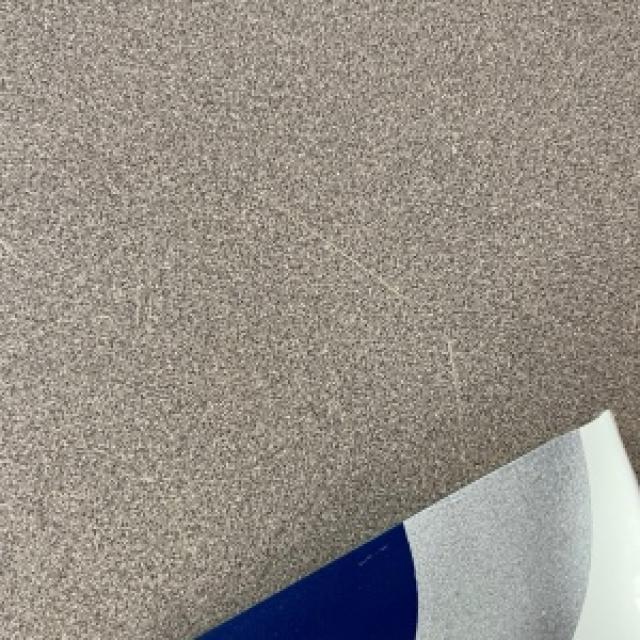healthy: (196, 410, 638, 638)
